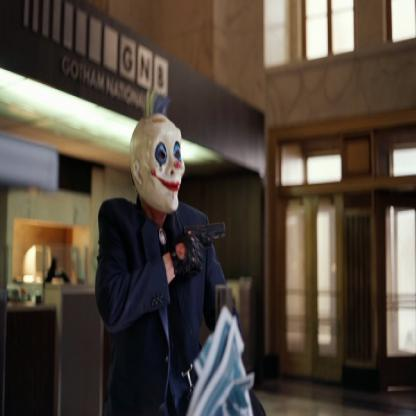Guns: (181, 216, 227, 269)
